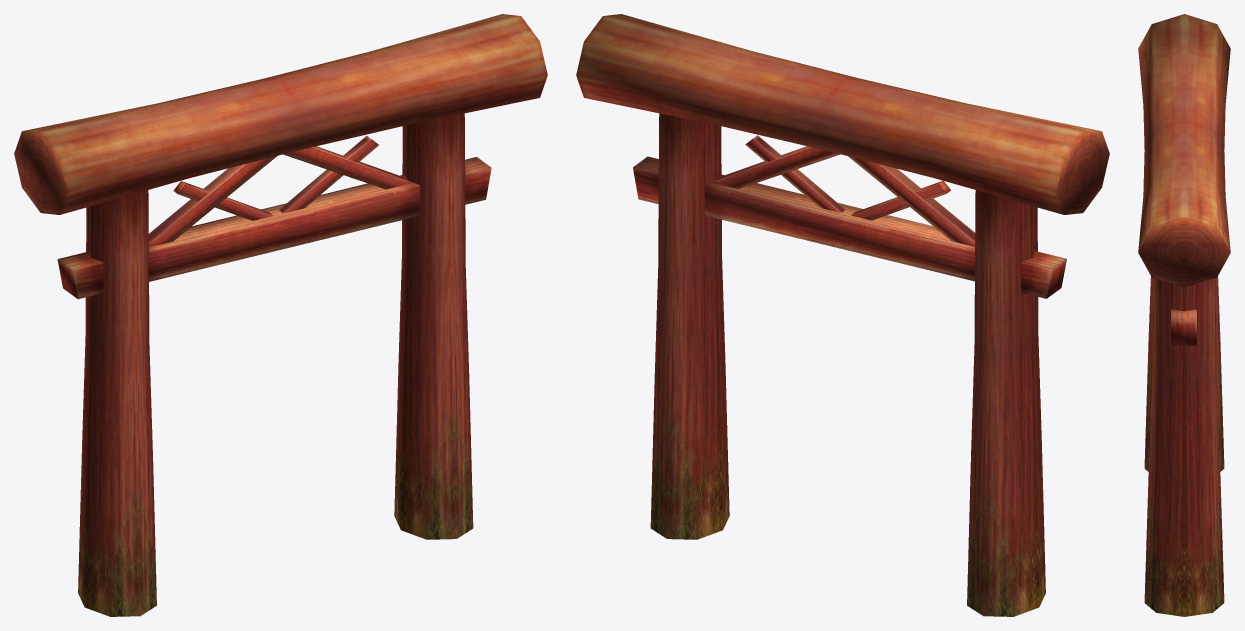
Rendered from a_SWFpillar01_a.glb.
3 views of the same model, side by side, from view 1: azimuth 30°, elevation 25°; view 2: azimuth 150°, elevation 25°; view 3: azimuth 270°, elevation 25° (orthographic). The views are drawn at different scales.
Parts seen in each view (by area): view 1: a_SWFpillar01_a; view 2: a_SWFpillar01_a; view 3: a_SWFpillar01_a.
Boxes of the visible parts, bbox=[...] form: a_SWFpillar01_a: bbox=[14, 14, 547, 616]; a_SWFpillar01_a: bbox=[576, 14, 1109, 616]; a_SWFpillar01_a: bbox=[1138, 14, 1230, 616].
Size of the model in its own units: 4.61 by 4.44 by 0.8828.
Materials: 1 (1 with a texture image).
